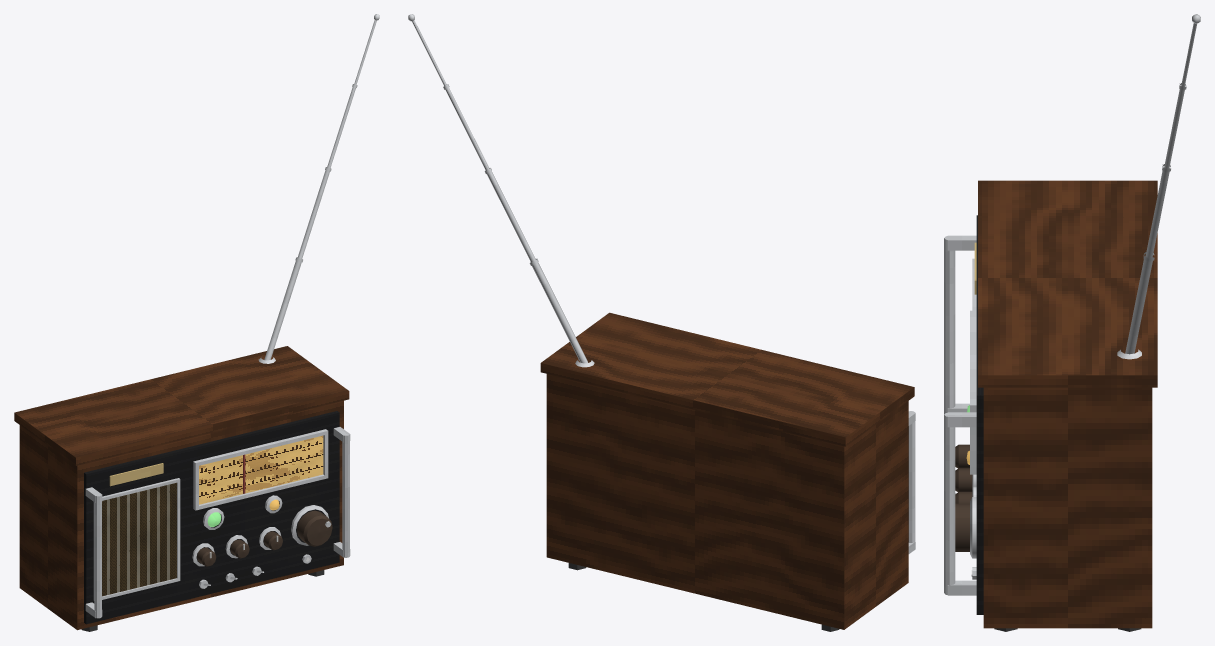
File: int_radio.glb
The picture shows the model from 3 angles, left to right: view 1: azimuth 30°, elevation 25°; view 2: azimuth 150°, elevation 25°; view 3: azimuth 270°, elevation 25°; orthographic projection. The views are drawn at different scales.
Parts seen in each view (by area): view 1: detail; view 2: detail; view 3: detail.
Boxes of the visible parts, x1,y1,x2,y2 form: detail: (14, 14, 379, 631); detail: (408, 14, 915, 631); detail: (944, 14, 1200, 631).
Size of what is drawn, in the model's own units: 0.5679 by 0.688 by 0.2283.
Materials: 14 (14 with a texture image).
